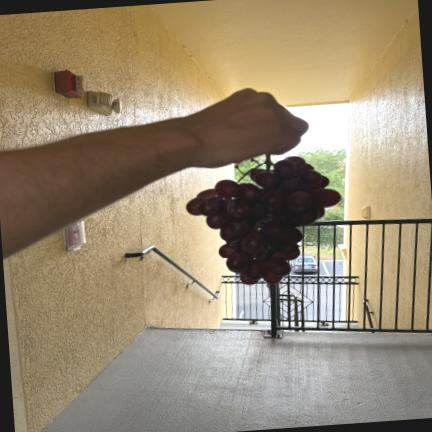grape_cluster: (186, 154, 341, 284)
